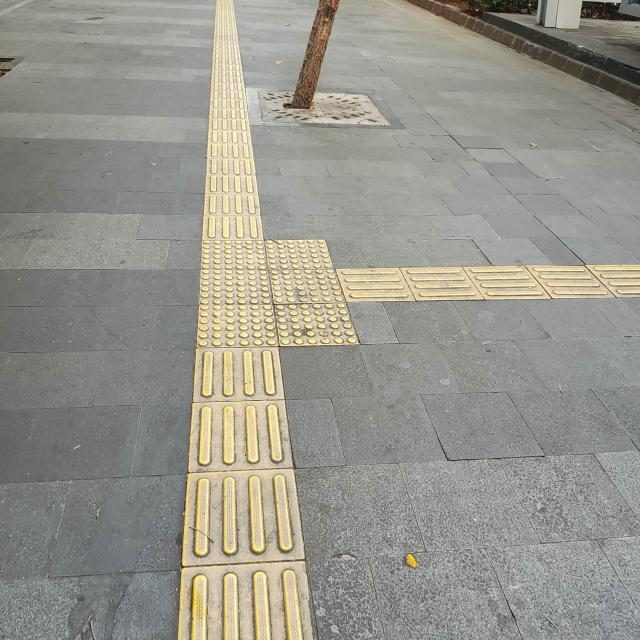lurus: (190, 354, 298, 640), (199, 0, 269, 228)
